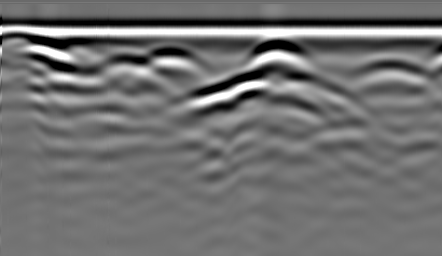pipe: (1, 29, 41, 48)
steel: (249, 38, 307, 64), (360, 58, 426, 75), (96, 51, 151, 70), (150, 45, 199, 62)
